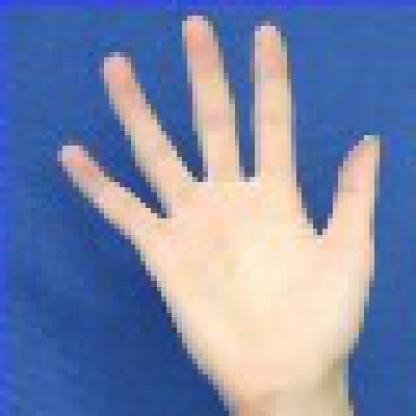five: (47, 12, 391, 404)
